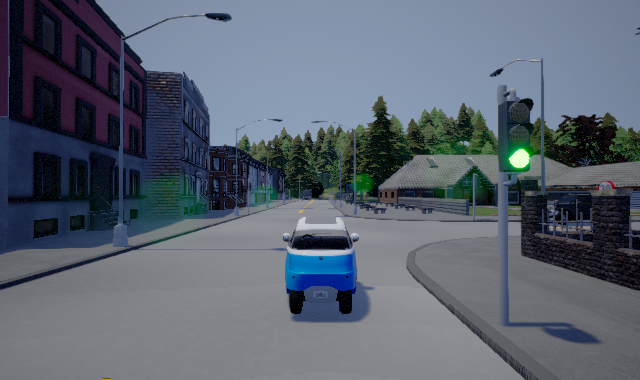traffic_light: (498, 88, 534, 186)
vehicle: (283, 215, 358, 314)
